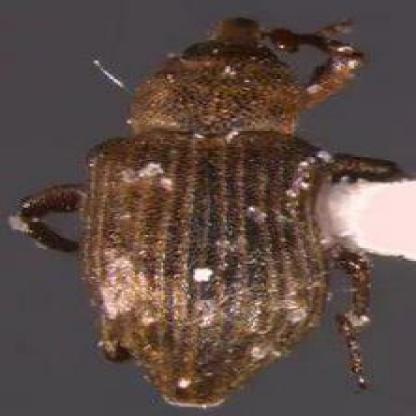rice-bug: (14, 17, 400, 409)
